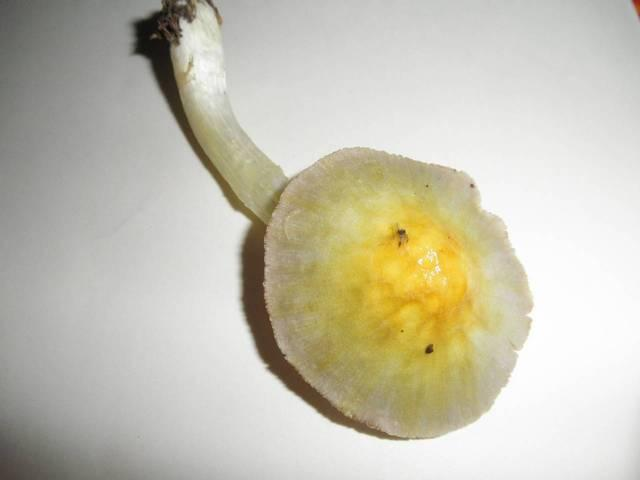edible_mushroom: (149, 0, 535, 440)
